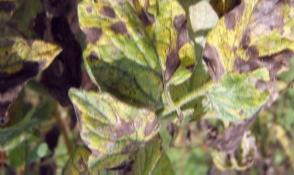Tomato Early blight leaf: (192, 0, 294, 120), (84, 0, 191, 109), (0, 35, 67, 148), (68, 95, 161, 173)
